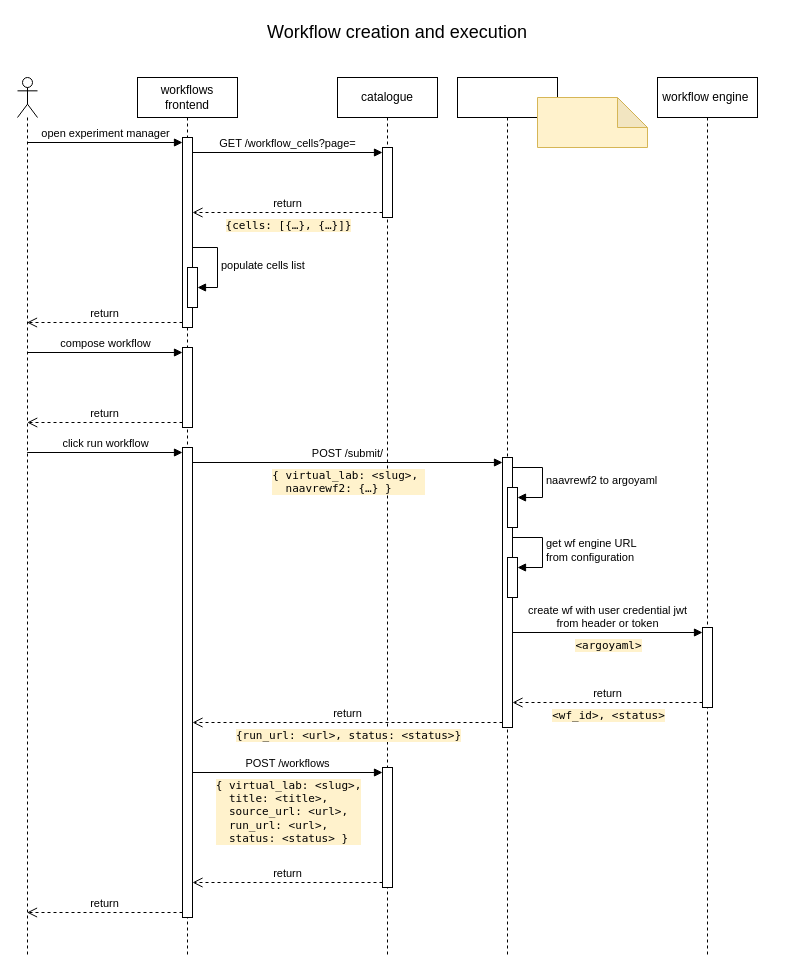
Some shapes in this 785 by 975 pixel diagram are drawn without their labels. Each missing label, with the box of its shape:
config: list of wf engines for each VL: (536, 96, 648, 148)
workflows backend: (456, 76, 558, 958)
